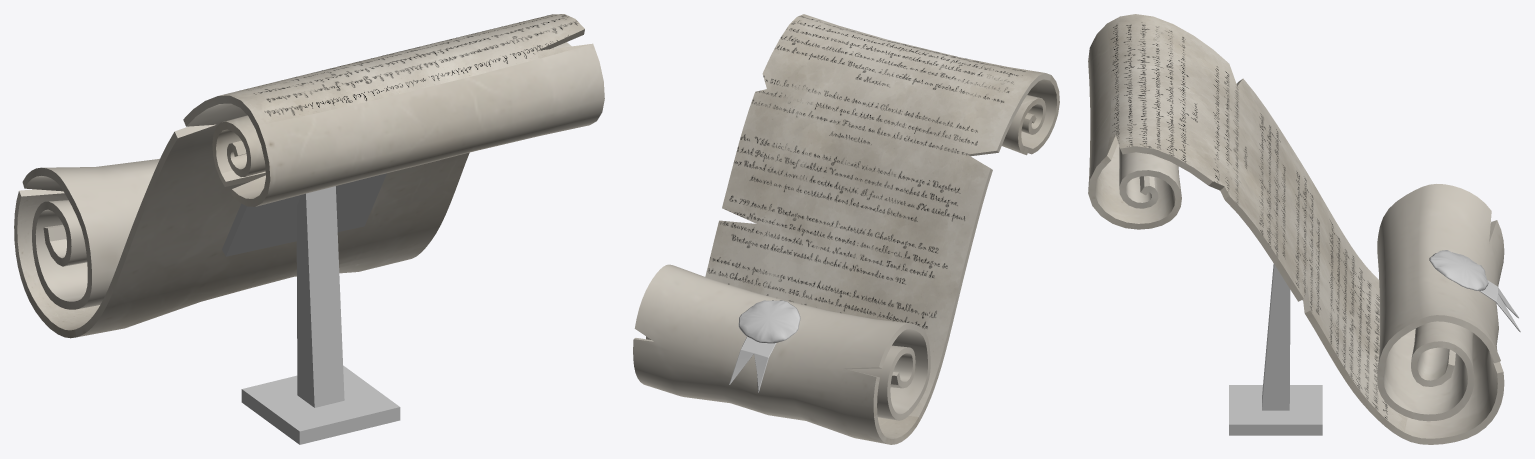
File: M_ScrollWithStand.fbx
3 views of the same model, side by side, from view 1: azimuth 30°, elevation 25°; view 2: azimuth 150°, elevation 25°; view 3: azimuth 270°, elevation 25° (orthographic). The views are drawn at different scales.
Parts seen in each view (by area): view 1: pCube3; view 2: pCube3; view 3: pCube3.
Boxes of the visible parts, left/top/right/bottom form: pCube3: left=14, top=14, right=604, bottom=444; pCube3: left=633, top=14, right=1059, bottom=444; pCube3: left=1088, top=14, right=1520, bottom=444.
Size of the model in its own units: 23.99 by 28.28 by 33.02.
